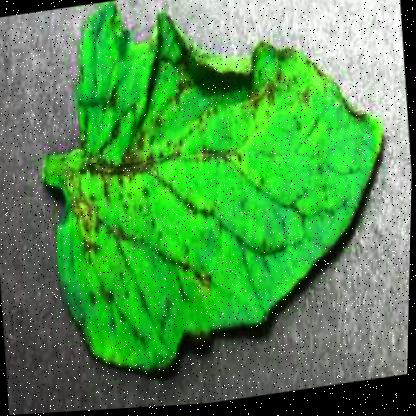BACTERIAL SPOT: (27, 0, 407, 394)
